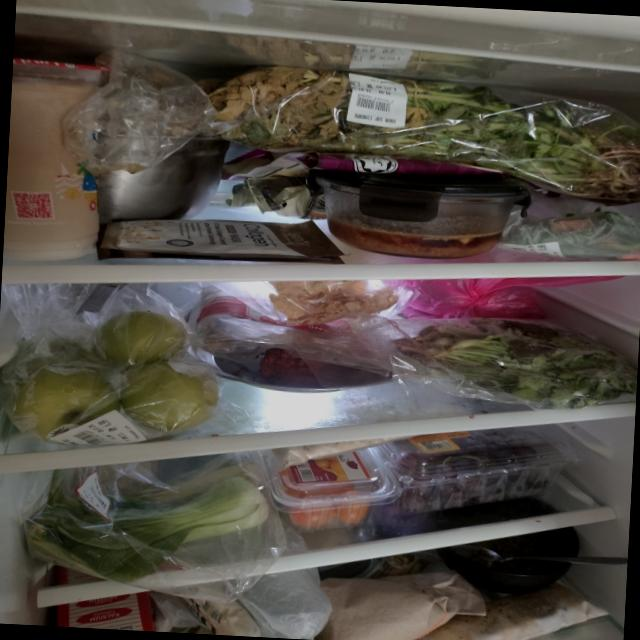apple: (5, 304, 224, 454)
grape: (394, 426, 552, 520)
leafy_greens: (213, 66, 640, 199), (393, 314, 640, 416), (383, 262, 624, 326)
pakchoy: (25, 464, 274, 590)
tempeh: (424, 572, 609, 640)
